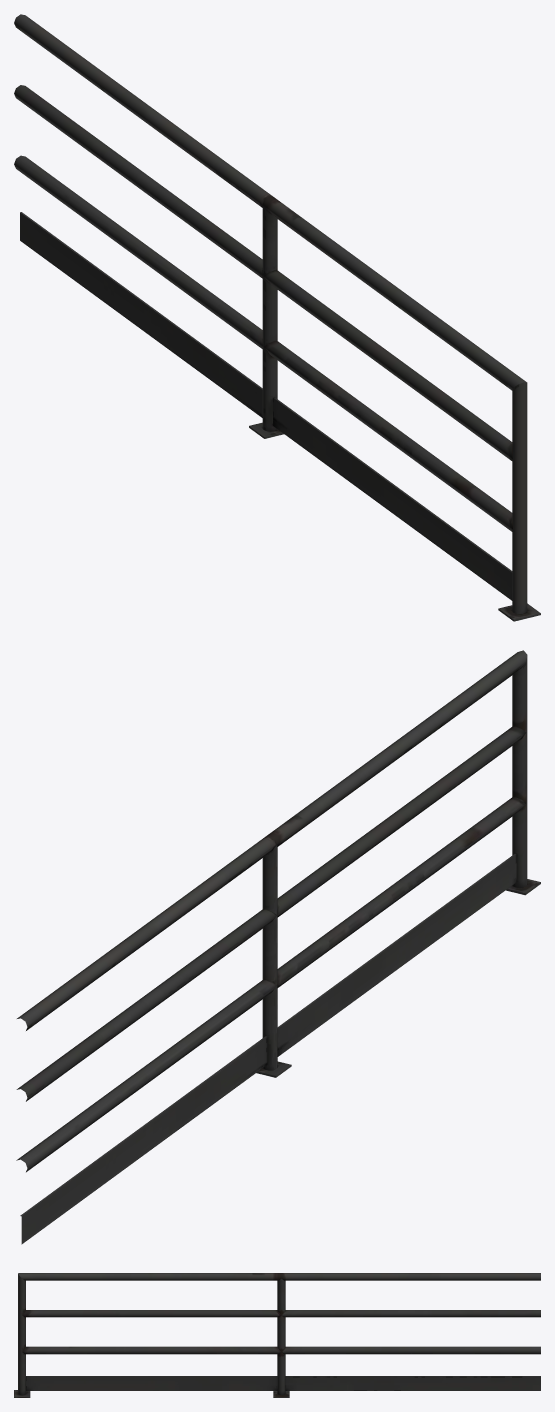
3 renders of one model, top to bottom at view 1: azimuth 30°, elevation 25°; view 2: azimuth 150°, elevation 25°; view 3: azimuth 270°, elevation 25°, orthographic. The views are drawn at different scales.
Visible parts, largest first — view 1: body0_model0_lod0_mesh0; view 2: body0_model0_lod0_mesh0; view 3: body0_model0_lod0_mesh0.
Part boxes in pixels (x1=…): body0_model0_lod0_mesh0: x1=14, y1=14, x2=540, y2=621; body0_model0_lod0_mesh0: x1=16, y1=650, x2=540, y2=1244; body0_model0_lod0_mesh0: x1=14, y1=1273, x2=540, y2=1397.
Bounding box in the file's own units: 4 × 33 × 130.
1 material, 1 textured.
